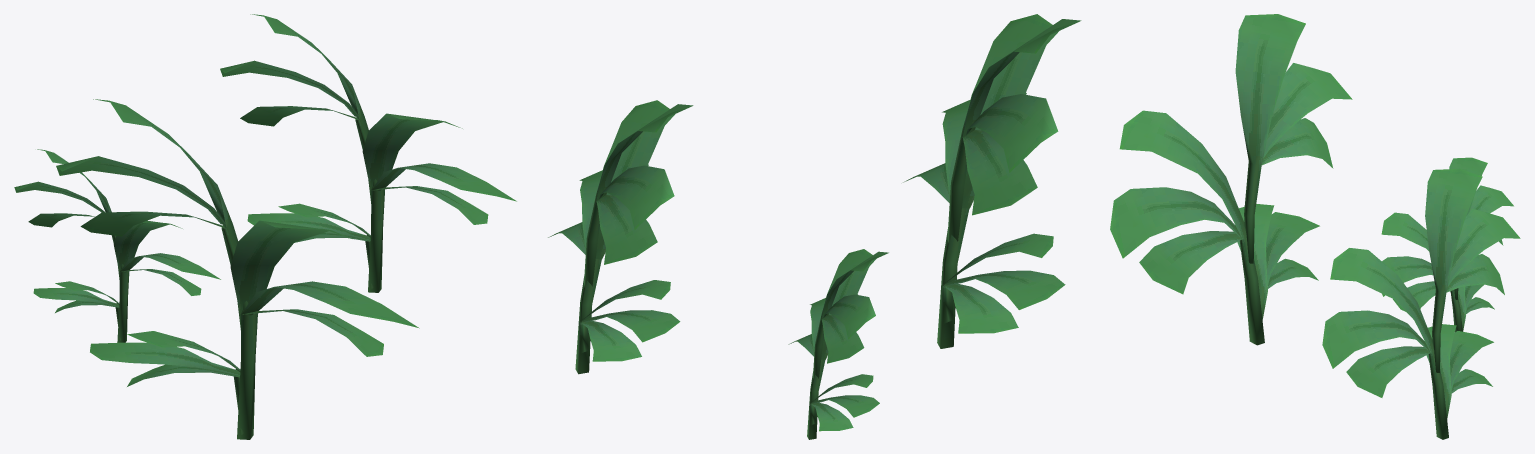
Rendered from FarmFernCluster2.fbx.
3 renders of one model, left to right at view 1: azimuth 30°, elevation 25°; view 2: azimuth 150°, elevation 25°; view 3: azimuth 270°, elevation 25°, orthographic. The views are drawn at different scales.
Parts seen in each view (by area): view 1: DecoplantsFernCluster (1), DecoplantsFernCluster (3), DecoplantsFernCluster; view 2: DecoplantsFernCluster (1), DecoplantsFernCluster (3), DecoplantsFernCluster; view 3: DecoplantsFernCluster (1), DecoplantsFernCluster (3), DecoplantsFernCluster.
Boxes of the visible parts, x1=… form: DecoplantsFernCluster (1): x1=56, y1=99, x2=419, y2=439; DecoplantsFernCluster (3): x1=220, y1=14, x2=516, y2=292; DecoplantsFernCluster: x1=14, y1=149, x2=220, y2=342; DecoplantsFernCluster (1): x1=903, y1=14, x2=1081, y2=348; DecoplantsFernCluster (3): x1=548, y1=100, x2=693, y2=374; DecoplantsFernCluster: x1=788, y1=249, x2=888, y2=439; DecoplantsFernCluster (1): x1=1110, y1=14, x2=1352, y2=345; DecoplantsFernCluster (3): x1=1322, y1=168, x2=1520, y2=439; DecoplantsFernCluster: x1=1381, y1=157, x2=1513, y2=332.
Size of the model in its own units: 1.79 by 1.3 by 1.72.
1 material, 1 textured.
